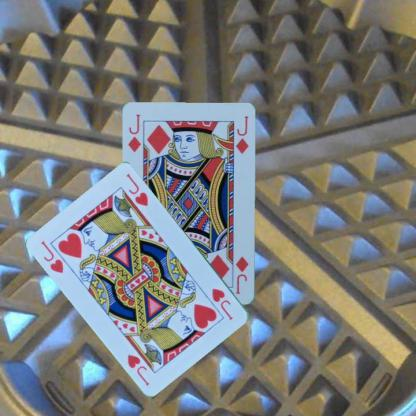Jd: (126, 112, 143, 154), (234, 254, 250, 296)
Jh: (209, 285, 235, 322), (39, 238, 65, 274)
